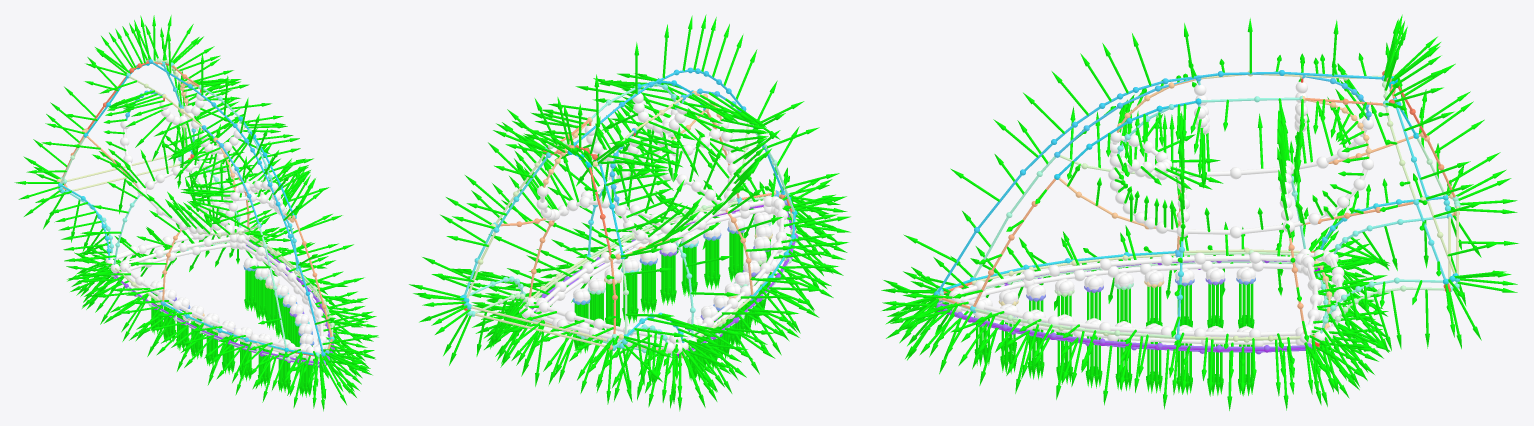
The model's file is onshape_iron.gltf.
3 renders of one model, left to right at view 1: azimuth 30°, elevation 25°; view 2: azimuth 150°, elevation 25°; view 3: azimuth 270°, elevation 25°, orthographic. The views are drawn at different scales.
Bounding box in the file's own units: 0.5334 × 0.6187 × 1.03.
